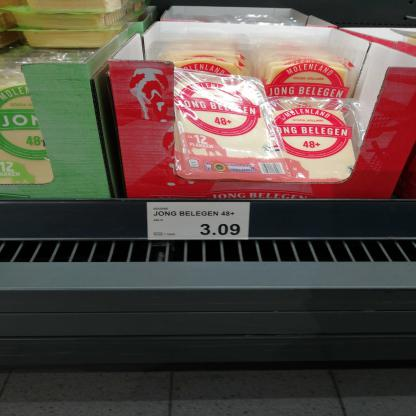prtg: (148, 203, 251, 240)
